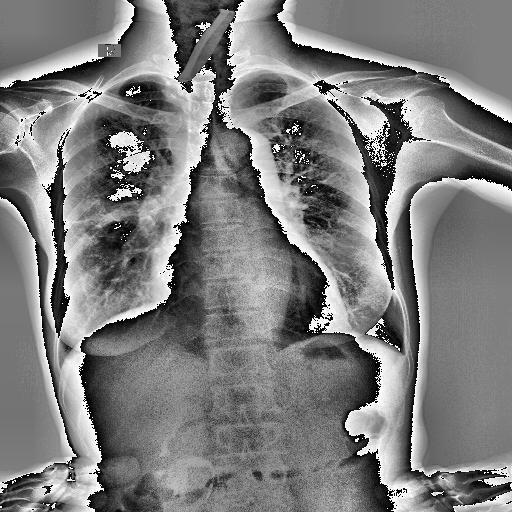0- Aortic enlargement: (211, 126, 282, 198), (214, 132, 285, 198), (218, 126, 278, 186)
13- Pulmonary fibrosis: (63, 198, 140, 229), (59, 197, 124, 229), (61, 210, 122, 224)
3- Cardiomegaly: (152, 241, 352, 337), (146, 255, 346, 334), (150, 263, 350, 338)
7- Lung Opacity: (63, 198, 140, 229)
